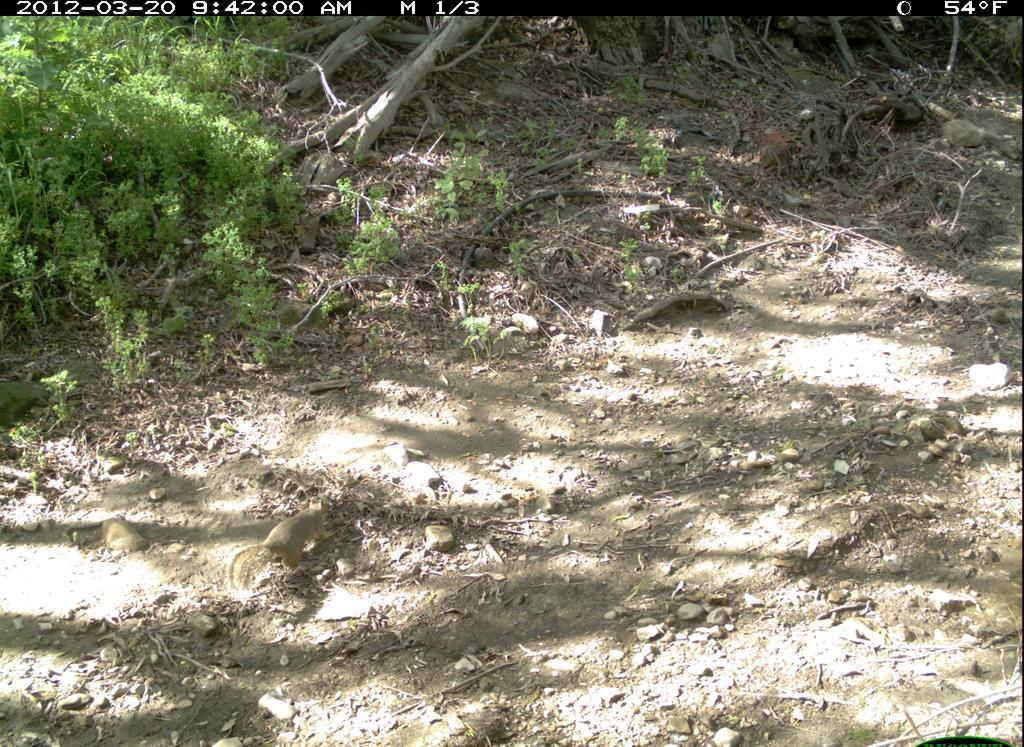squirrel: (225, 492, 350, 606)
